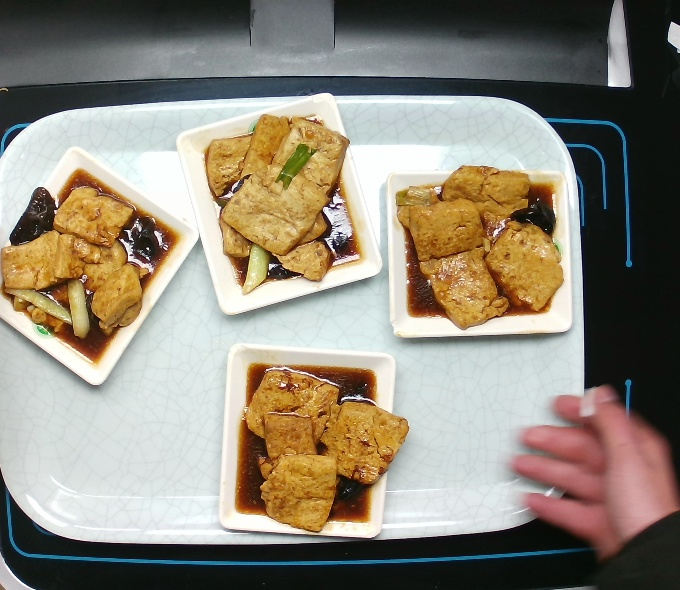wcq-JiaChangDouFu: (1, 164, 185, 367), (231, 357, 414, 534), (201, 109, 365, 297), (391, 162, 568, 334)
